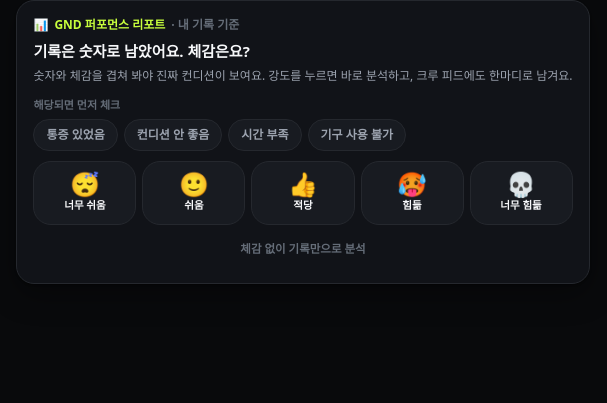
Test case: CoachCard › 강도를 누르면 페이지에 알린다 — 크루 피드 한마디를 채우는 데 쓴다 (2026-09-29)
This screenshot has width=607, height=403.
Click the text "너무 힘듦" at [521, 206], box [500,198,542,214]
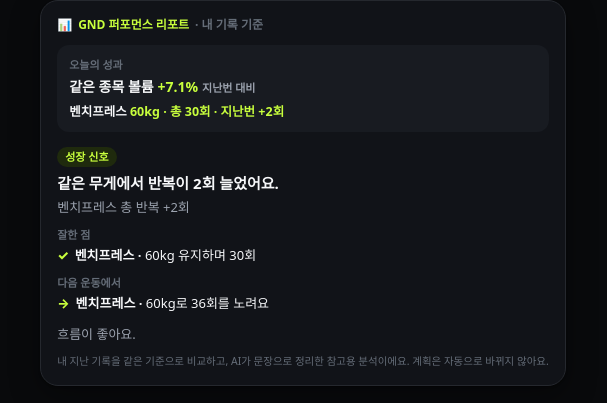
Check: the text "같은 무게에서 반복이 2회 늘었어요." is shown, box [57,173,279,193]
